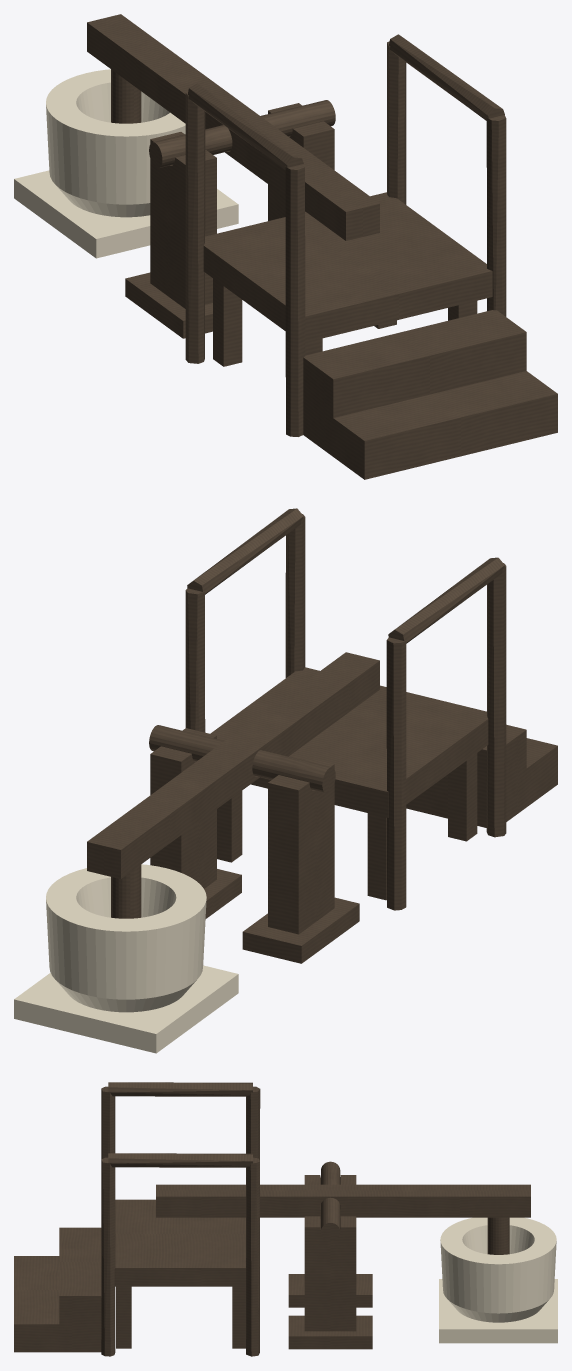
Rendered from foot-pestle-LOD1.glb.
3 renders of one model, top to bottom at view 1: azimuth 30°, elevation 25°; view 2: azimuth 150°, elevation 25°; view 3: azimuth 270°, elevation 25°, orthographic. The views are drawn at different scales.
Visible parts, largest first — view 1: pestle_timber_static, pestle_stone_static, pestle_timber_moving; view 2: pestle_timber_static, pestle_stone_static, pestle_timber_moving; view 3: pestle_timber_static, pestle_stone_static, pestle_timber_moving.
Part boxes in pixels (box(x1,y1,x2,y2)): pestle_timber_static: box(125, 34, 557, 479); pestle_stone_static: box(14, 69, 238, 258); pestle_timber_moving: box(87, 14, 379, 240); pestle_timber_static: box(149, 508, 557, 963); pestle_stone_static: box(14, 864, 238, 1053); pestle_timber_moving: box(87, 652, 379, 918); pestle_timber_static: box(14, 1082, 372, 1356); pestle_stone_static: box(439, 1217, 557, 1343); pestle_timber_moving: box(156, 1184, 530, 1254).
Size of the model in its own units: 1.41 by 1.71 by 4.21.
Materials: 2 (1 with a texture image).
